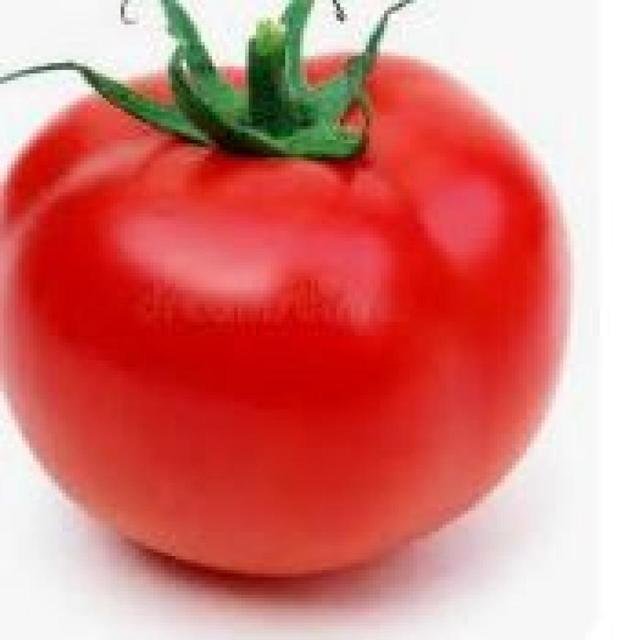Healthy Fruit: (2, 27, 400, 427)
